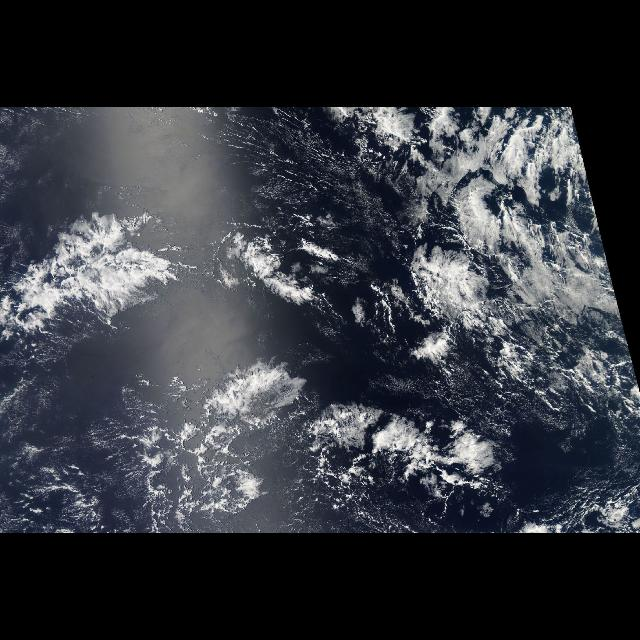Fish: (4, 187, 483, 503)
Gravel: (96, 365, 302, 523)
